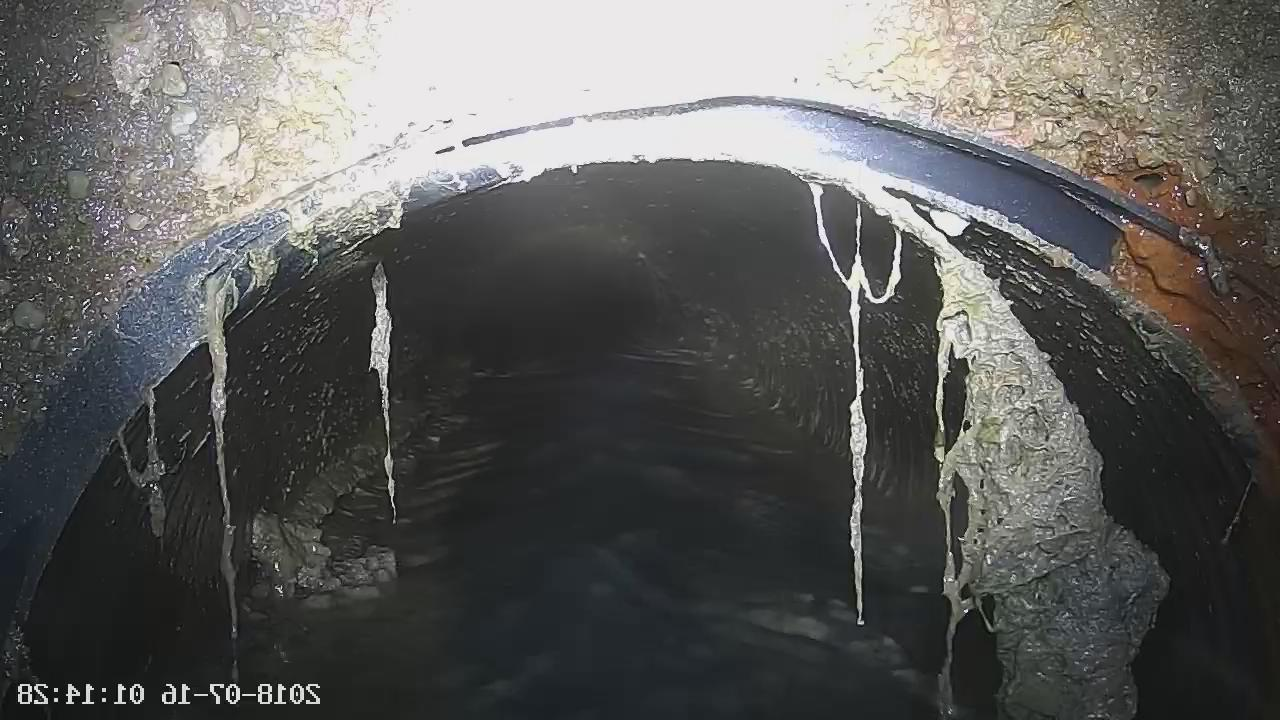CKTJ: (1, 94, 1280, 629)
JKCL: (774, 163, 1165, 719)
